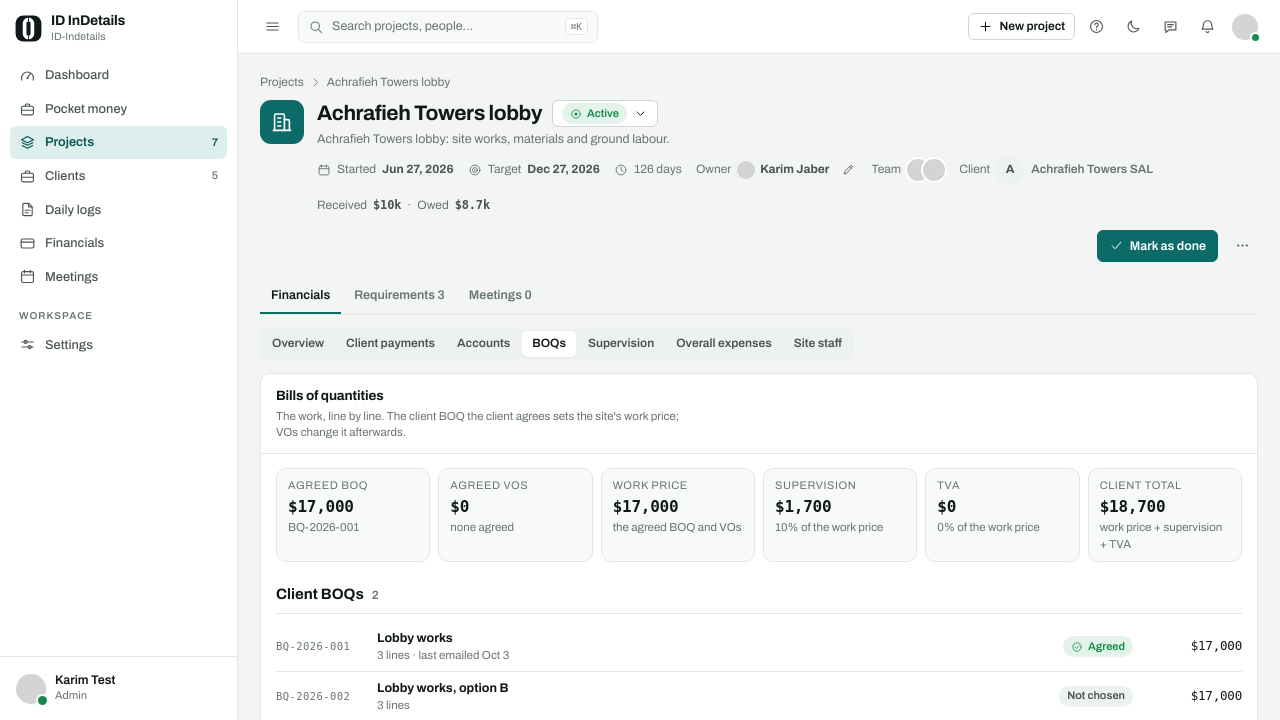
a site's bills of quantities › show someone who only sees money the BOQs and the price, to read
Expected: the element "price" is shown, [276, 468, 1242, 562]
Expected: the button with aria-label "Open BQ-2026-001" is shown, [276, 622, 1242, 672]
Click the button with aria-label "Open BQ-2026-002" at (313, 696), box [276, 672, 1242, 719]
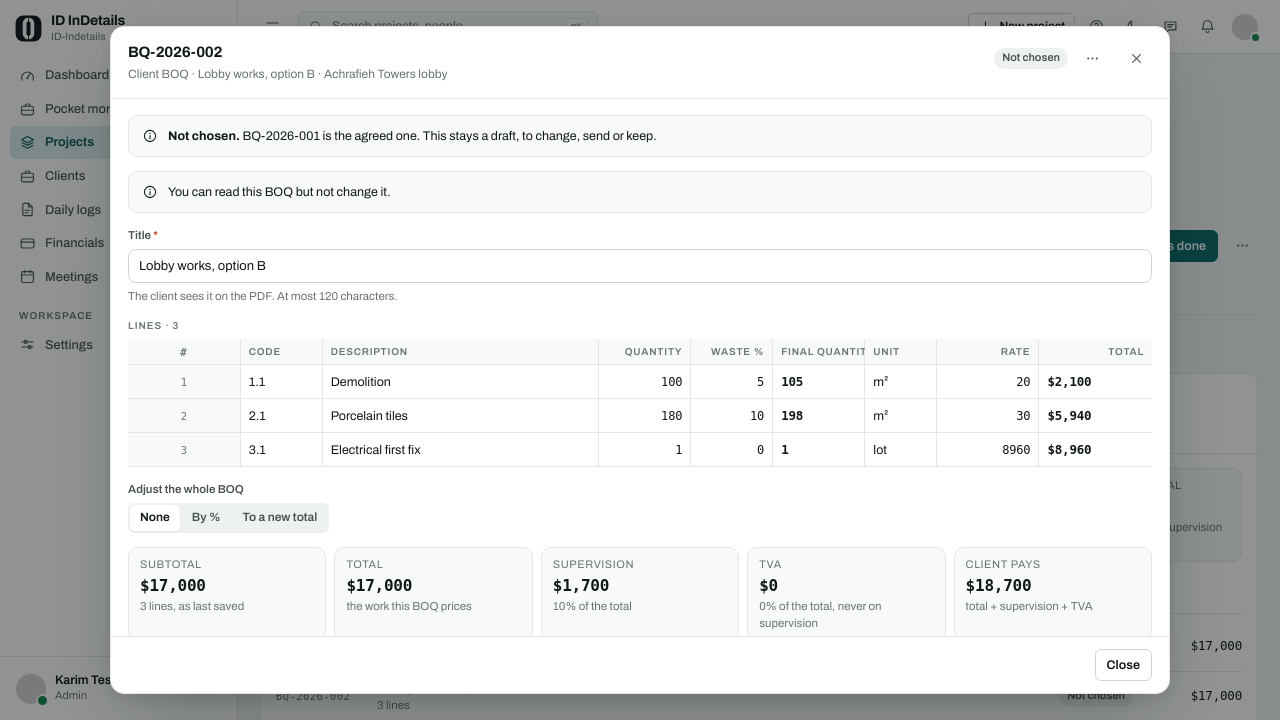
Now the field named "Description 1" is disabled, box [323, 365, 598, 398]
Now the text "You can read this BOQ but not change it." is shown, box [168, 185, 390, 199]
